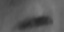LeftEyeFatigue: (6, 8, 60, 32)
